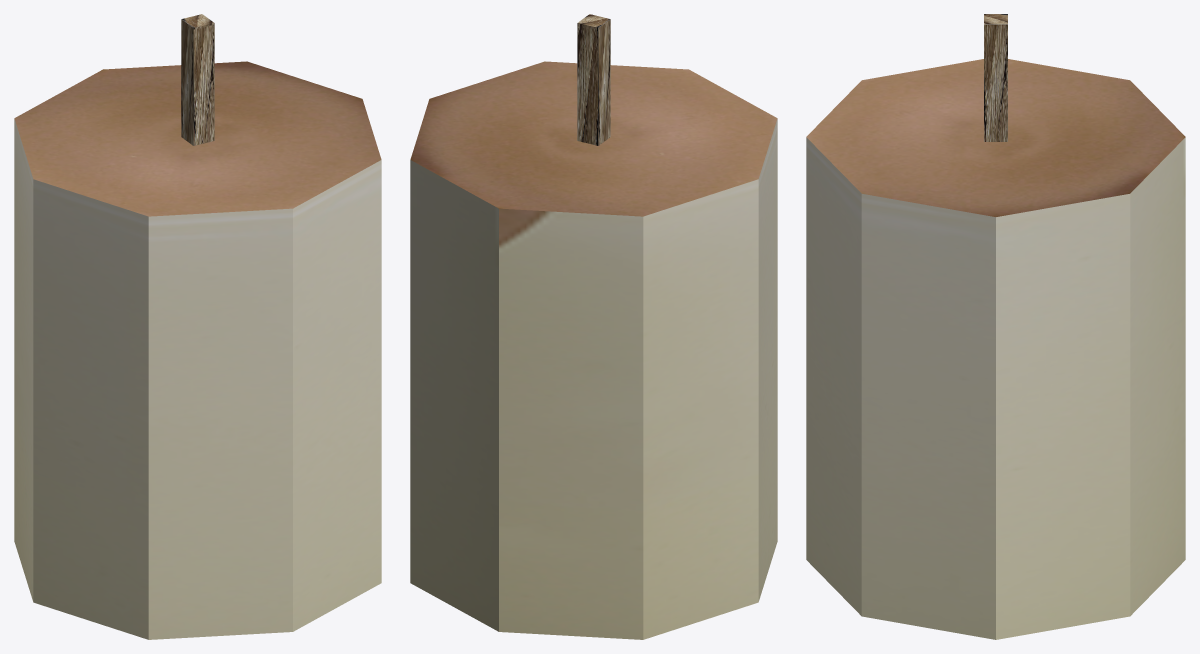
File: Prop_sm_Candle_Short.fbx
3 views of the same model, side by side, from view 1: azimuth 30°, elevation 25°; view 2: azimuth 150°, elevation 25°; view 3: azimuth 270°, elevation 25° (orthographic).
Parts seen in each view (by area): view 1: Candle_Short; view 2: Candle_Short; view 3: Candle_Short.
Boxes of the visible parts, box(x1,y1,x2,y2) form: Candle_Short: box(14, 14, 381, 639); Candle_Short: box(410, 14, 777, 639); Candle_Short: box(806, 14, 1185, 639).
Bounding box in the file's own units: 0.0986 × 0.1549 × 0.0986.
Materials: 1 (1 with a texture image).
